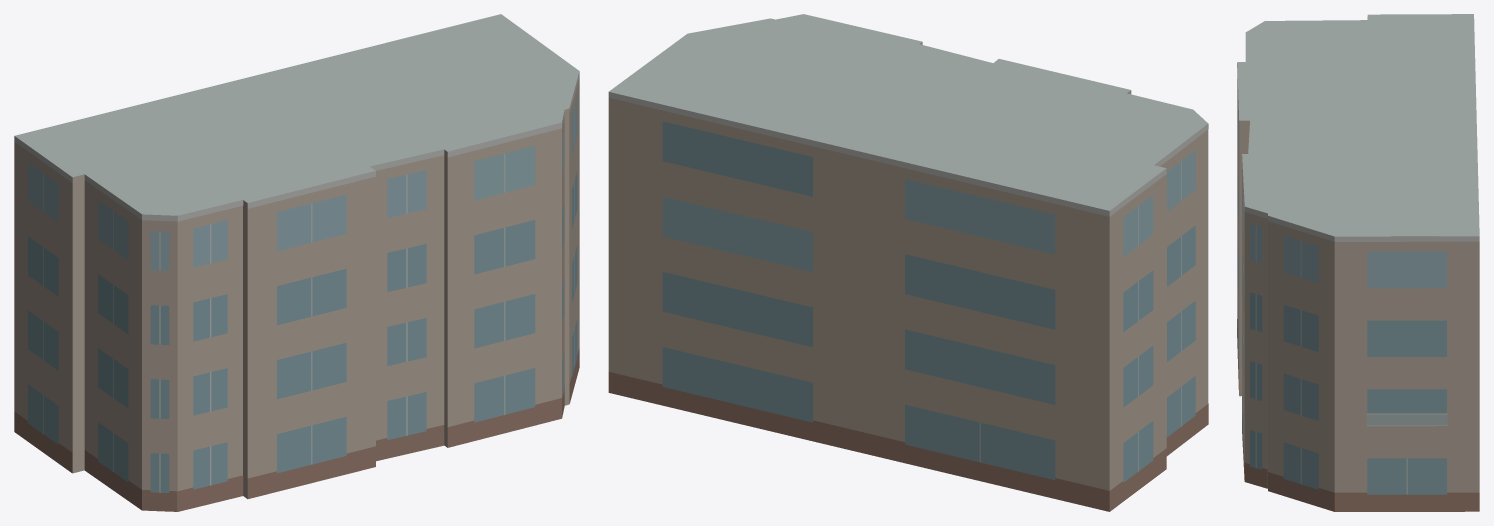
The model's file is survey-upis-32620786.glb.
3 renders of one model, left to right at view 1: azimuth 30°, elevation 25°; view 2: azimuth 150°, elevation 25°; view 3: azimuth 270°, elevation 25°, orthographic. The views are drawn at different scales.
Parts seen in each view (by area): view 1: survey-upis-32620786.tmp; view 2: survey-upis-32620786.tmp; view 3: survey-upis-32620786.tmp.
Boxes of the visible parts, x1=… form: survey-upis-32620786.tmp: x1=14, y1=14, x2=579, y2=511; survey-upis-32620786.tmp: x1=608, y1=14, x2=1208, y2=511; survey-upis-32620786.tmp: x1=1237, y1=14, x2=1479, y2=511.
Bounding box in the file's own units: 21.7 × 12.5 × 9.99.
